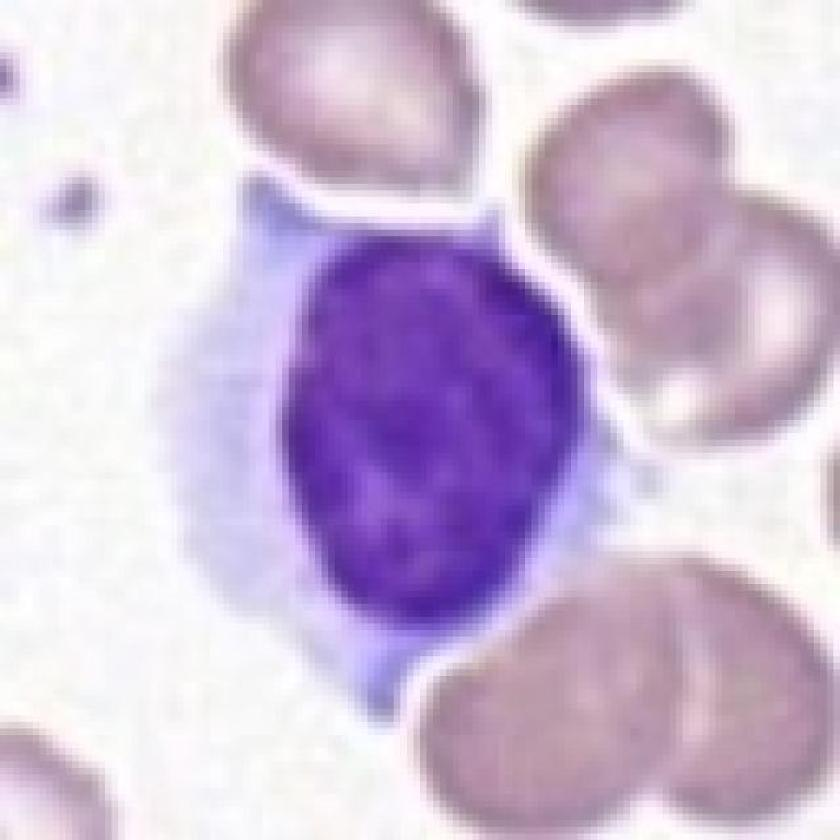lymphocyte: (157, 164, 610, 749)
